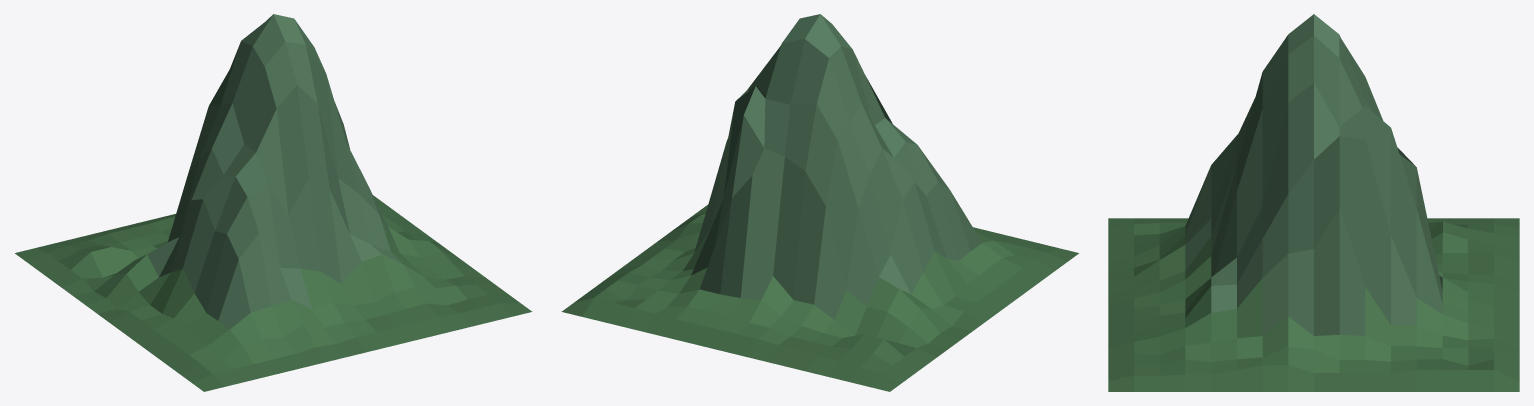
File: Terrain_23_Light_Green.fbx
The picture shows the model from 3 angles, left to right: view 1: azimuth 30°, elevation 25°; view 2: azimuth 150°, elevation 25°; view 3: azimuth 270°, elevation 25°; orthographic projection. The views are drawn at different scales.
Visible parts, largest first — view 1: Terrain_23_Light_Green; view 2: Terrain_23_Light_Green; view 3: Terrain_23_Light_Green.
Boxes of the visible parts, x1,y1,x2,y2 form: Terrain_23_Light_Green: (15, 14, 532, 391); Terrain_23_Light_Green: (561, 14, 1078, 391); Terrain_23_Light_Green: (1108, 14, 1519, 391).
Bounding box in the file's own units: 10000 × 7811 × 10000.
